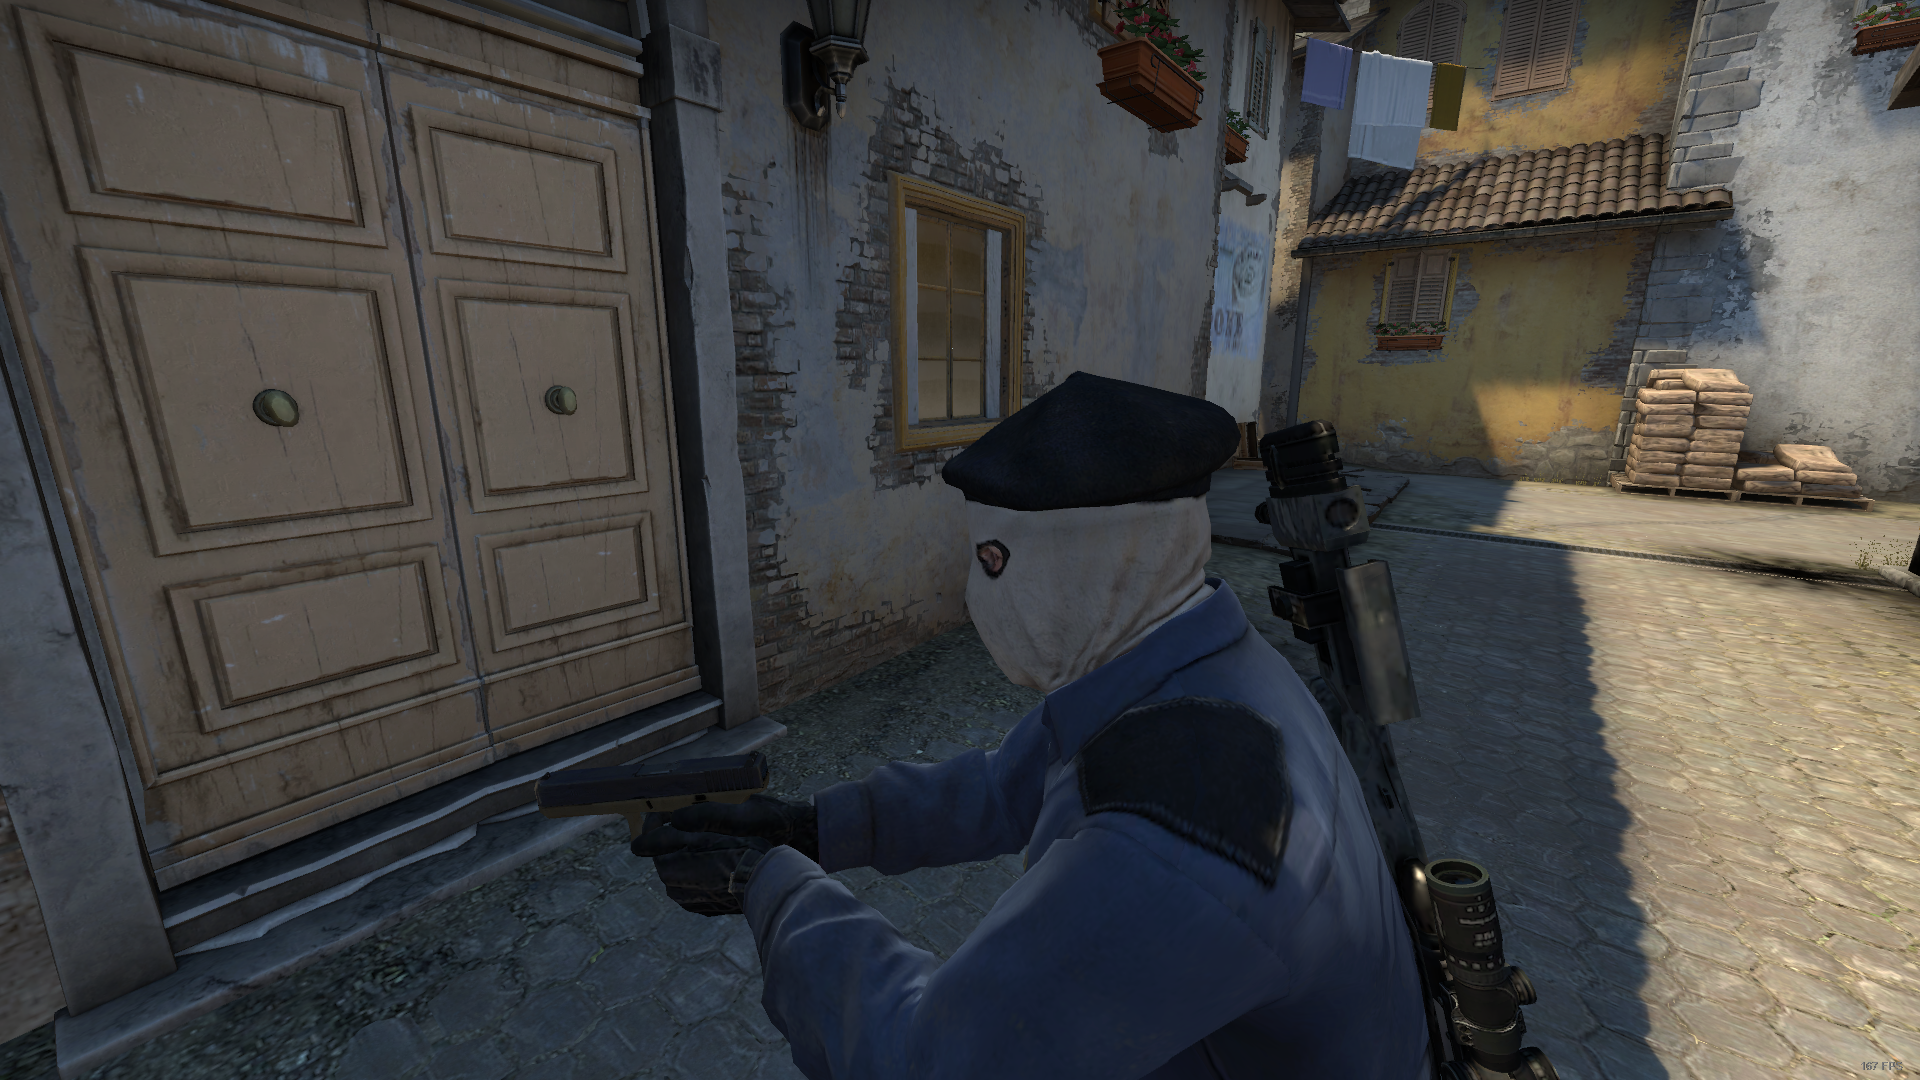t: (636, 369, 1480, 1080)
